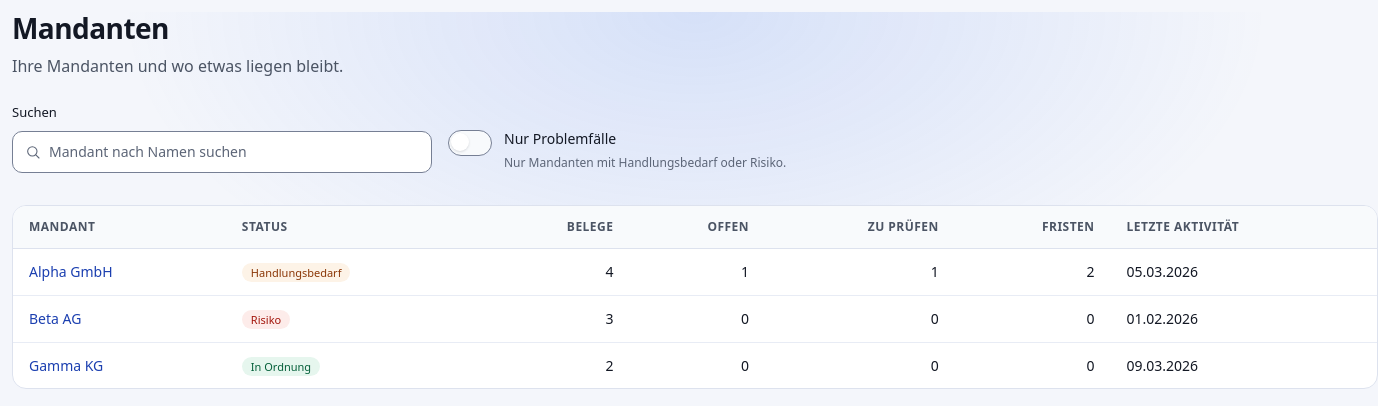
Test: Mandanten list › keeps only the problem cases when the switch is on, and asks the server for them
Expected: the link "Gamma KG" is shown, left=29, top=356, right=103, bottom=374
Click the switch named "Nur Problemfälle" at (470, 143), box left=448, top=130, right=492, bottom=156
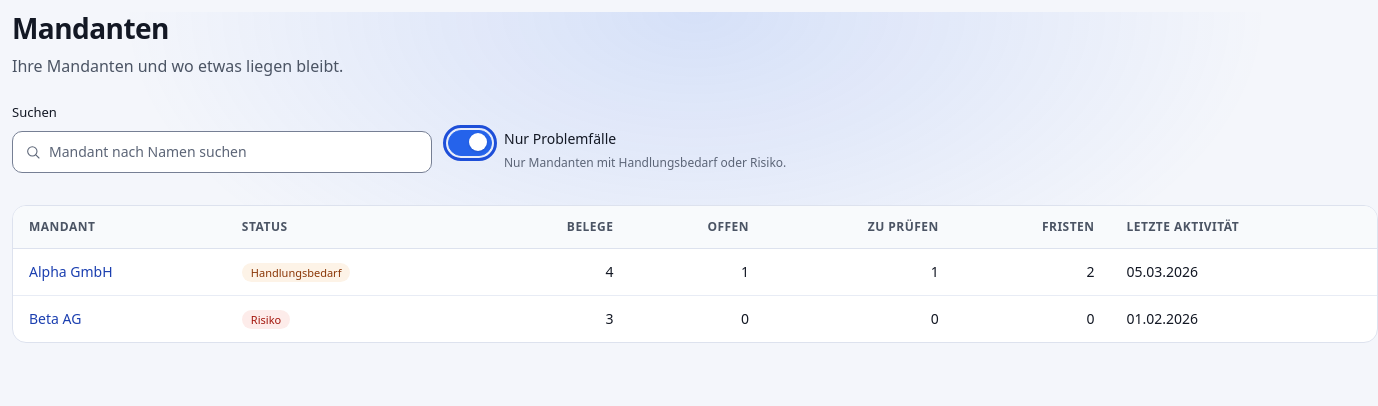
Expected: the link "Alpha GmbH" is shown, left=29, top=262, right=113, bottom=281
Now the link "Gamma KG" is gone
